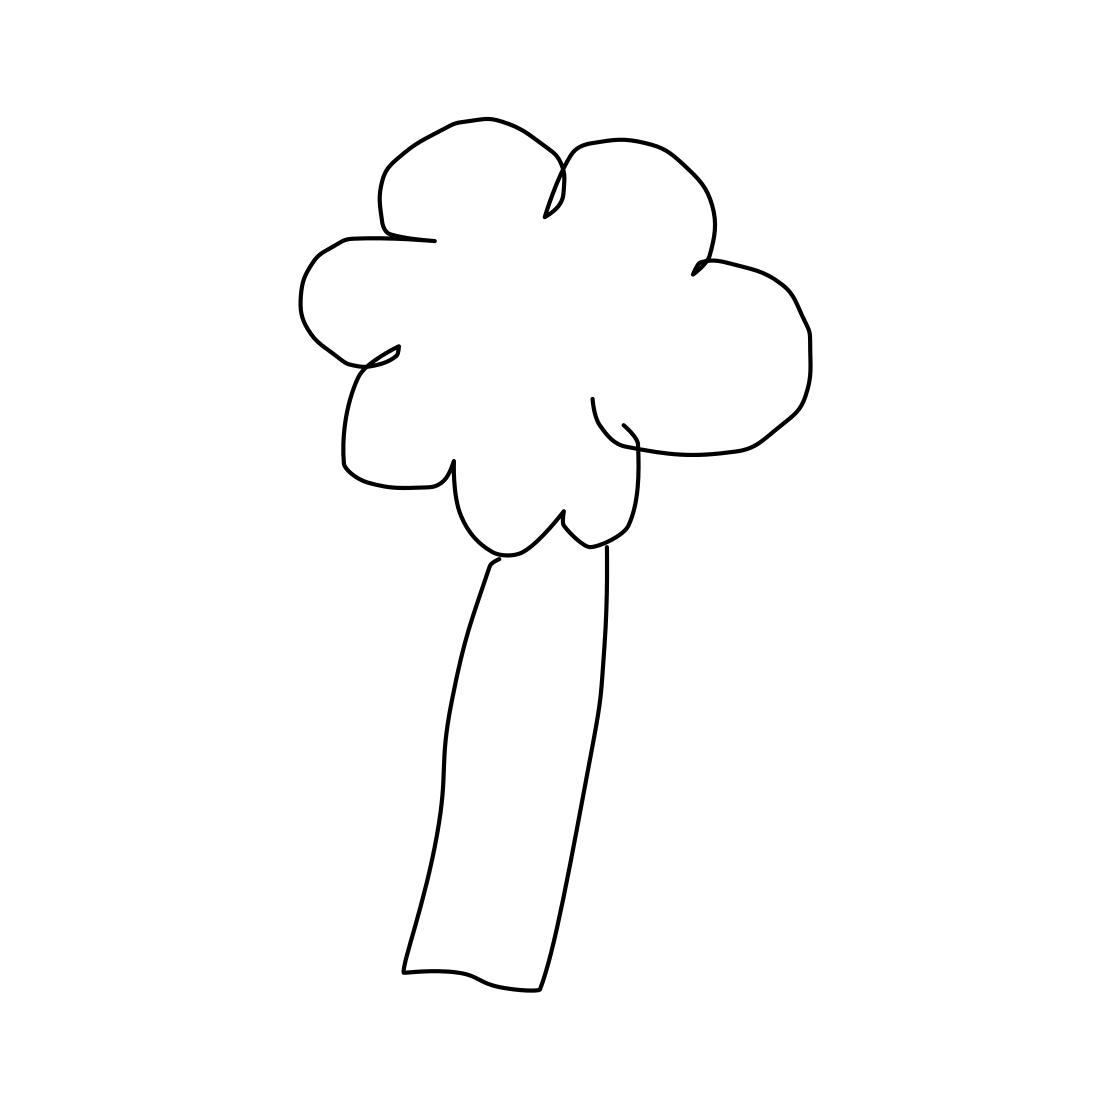Tree: (248, 65, 823, 1003)
